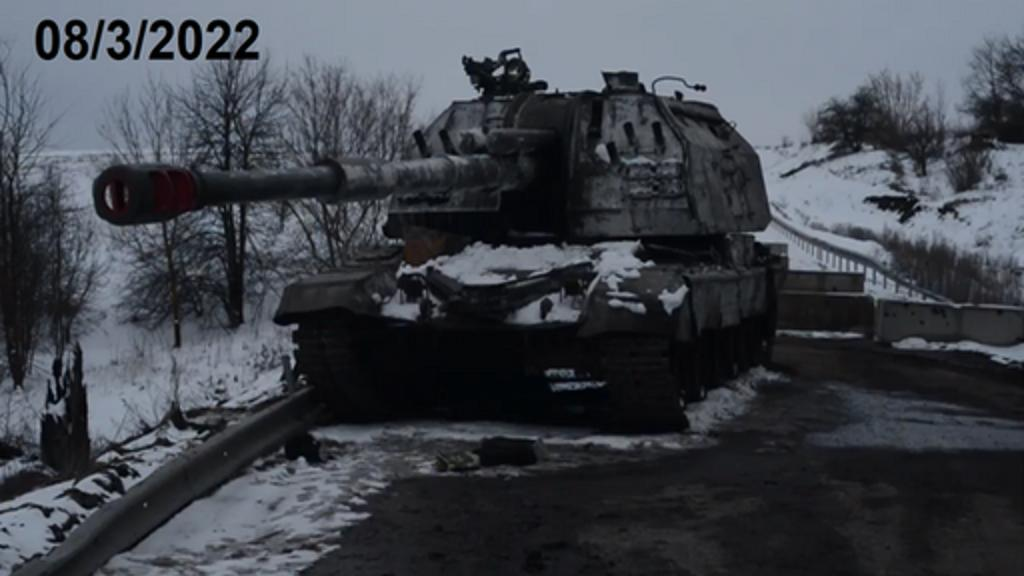ART: (92, 62, 796, 434)
